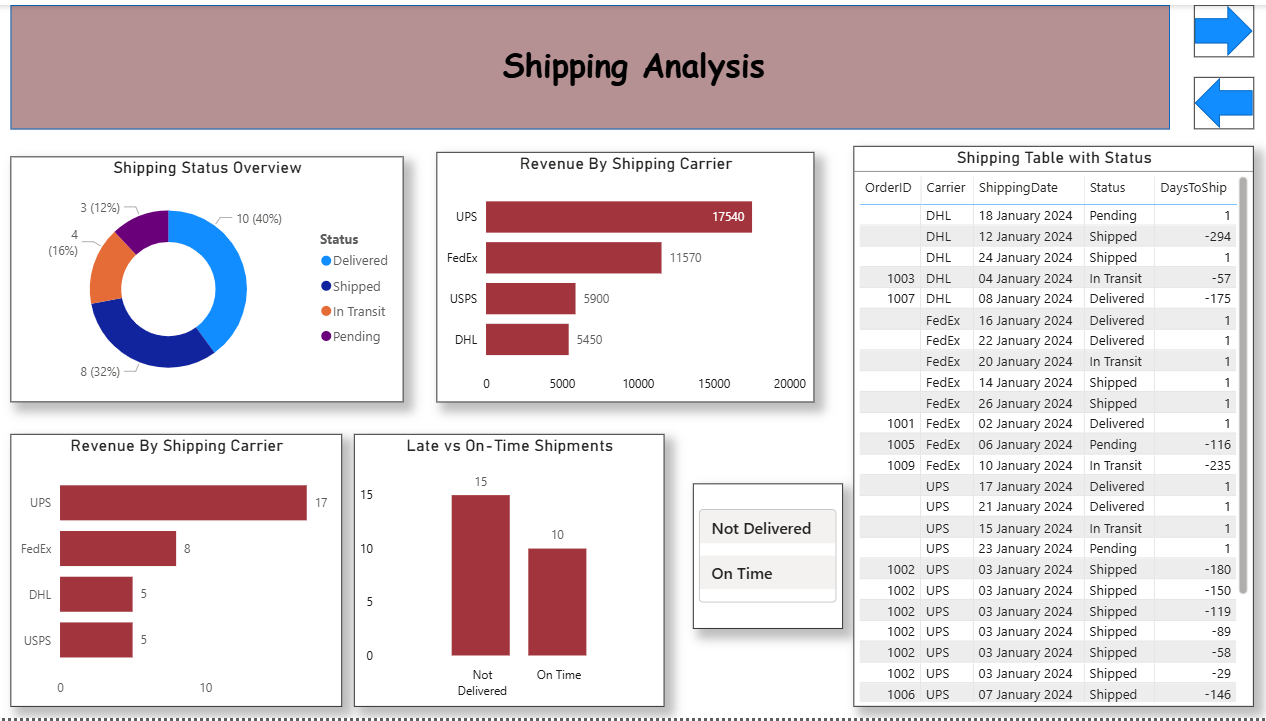

This screenshot's page, from the dashboard's own definition file:
{"tool":"powerbi","page":{"name":"Shipping Analysis","canvas":[1280,720],"ordinal":3},"visuals":[{"type":"shape","box":[10.6,0,1170.5,125.7],"z":0},{"type":"shape","box":[1205.3,0,60.6,53],"z":1000},{"type":"textbox","box":[11,190,1060,150],"z":2000},{"type":"shape","box":[1205.3,72.7,60.6,53],"z":3000},{"type":"textbox","box":[457.3,31.8,364.9,81.8],"z":4000},{"type":"donutChart","title":"Shipping Status Overview ","fields":{"Category":["Shipping.Status"],"Y":["CountNonNull(Shipping.Status)"]},"box":[10.6,152.9,396.7,248.3],"z":5000},{"type":"barChart","title":"Revenue By Shipping Carrier ","fields":{"Category":["Shipping.Carrier"],"Y":["CountNonNull(Orders.DaysToShip)"]},"box":[10.6,433.1,334.6,275.6],"z":6000},{"type":"barChart","title":"Revenue By Shipping Carrier ","fields":{"Category":["Shipping.Carrier"],"Y":["Sum(Orders.TotalPrice)"]},"box":[440.6,148.4,381.6,252.9],"z":7000},{"type":"clusteredColumnChart","title":"Late vs On-Time Shipments ","fields":{"Category":["Shipping.oOnTime"],"Y":["CountNonNull(Shipping.ShippingID)"]},"box":[357.4,433.1,313.4,275.6],"z":8000},{"type":"cardVisual","title":"Late vs On-Time Shipments ","fields":{"Rows":["Shipping.oOnTime"],"Data":["CountNonNull(Shipping.ShippingID)"]},"box":[699.6,483,151.4,146.9],"z":9000},{"type":"tableEx","title":"Shipping Table with Status","fields":{"Values":["People.OrderID","Shipping.Carrier","Shipping.ShippingDate","Shipping.Status","Orders.DaysToShip"]},"box":[861.6,142.3,404.3,566.3],"z":10000}]}

Visuals, with their boxes in screenshot pixels (x1, y1, x2, y2), scaled from the page's 1280x720 canvas onto the 1266x721 screenshot:
shape: pyautogui.locateOnScreen(10, 0, 1168, 126)
shape: pyautogui.locateOnScreen(1192, 0, 1252, 53)
textbox: pyautogui.locateOnScreen(11, 190, 1059, 340)
shape: pyautogui.locateOnScreen(1192, 73, 1252, 126)
textbox: pyautogui.locateOnScreen(452, 32, 813, 114)
"Shipping Status Overview " donutChart: pyautogui.locateOnScreen(10, 153, 403, 402)
"Revenue By Shipping Carrier " barChart: pyautogui.locateOnScreen(10, 434, 341, 710)
"Revenue By Shipping Carrier " barChart: pyautogui.locateOnScreen(436, 149, 813, 402)
"Late vs On-Time Shipments " clusteredColumnChart: pyautogui.locateOnScreen(353, 434, 663, 710)
"Late vs On-Time Shipments " cardVisual: pyautogui.locateOnScreen(692, 484, 842, 631)
"Shipping Table with Status" tableEx: pyautogui.locateOnScreen(852, 142, 1252, 710)
